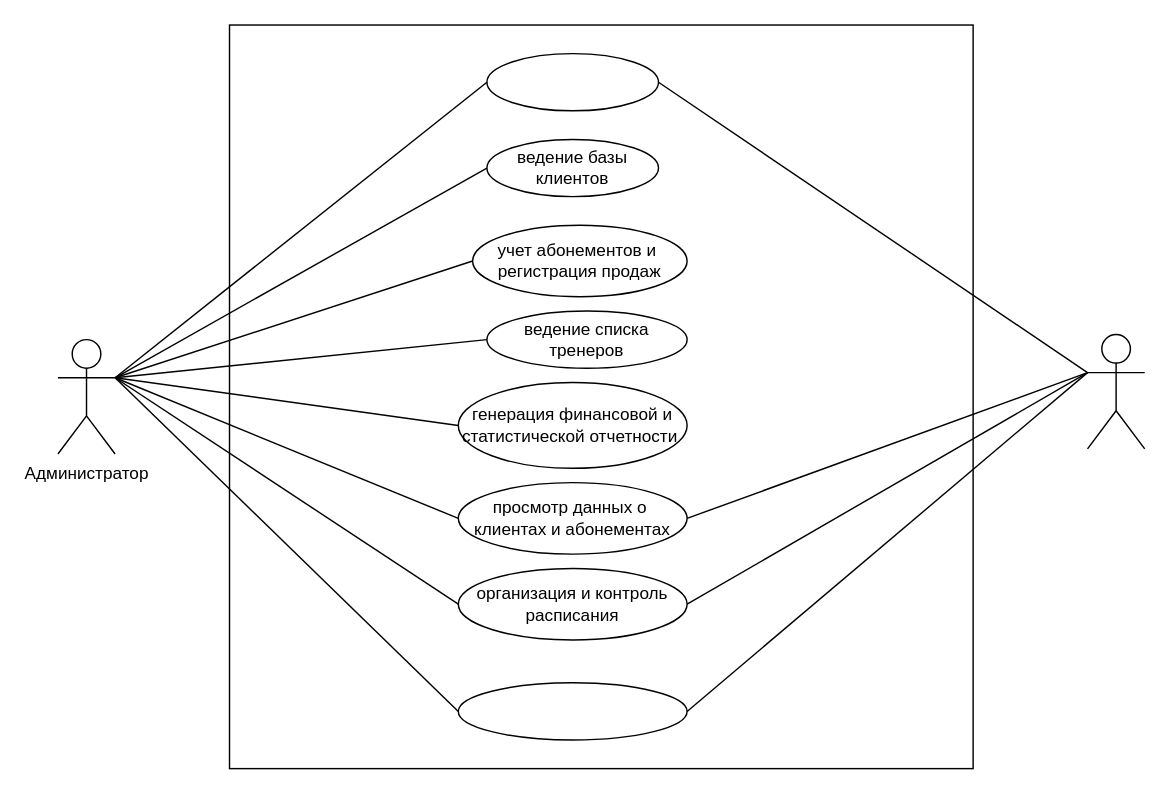
The diagram is 1170 pixels wide and 794 high, and some of its shapes have lost their labels. The centre of each missing label's shape, as x and y in pixels:
"авторизация" goes at (572,81).
"мониторинг загрузки бассейна" goes at (572,710).
"Тренер" goes at (1115,391).
